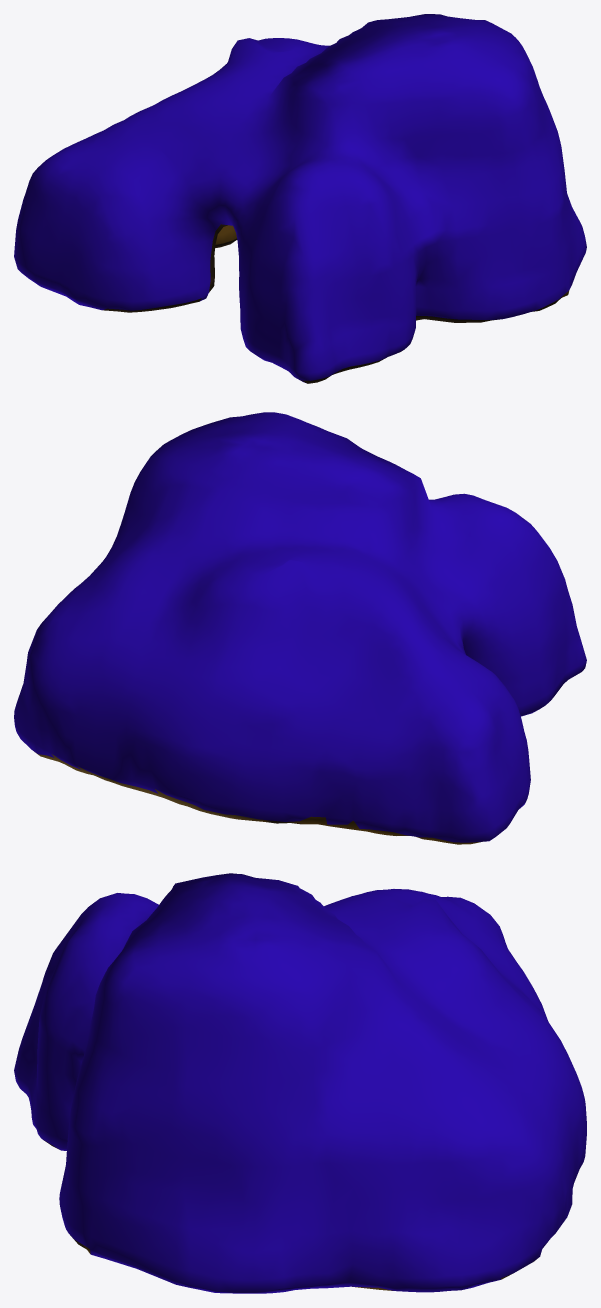
File: CaveFIXED.fbx
The picture shows the model from 3 angles, top to bottom: view 1: azimuth 30°, elevation 25°; view 2: azimuth 150°, elevation 25°; view 3: azimuth 270°, elevation 25°; orthographic projection. The views are drawn at different scales.
Visible parts, largest first — view 1: Cave; view 2: Cave; view 3: Cave.
Boxes of the visible parts, x1,y1,x2,y2 form: Cave: (14, 14, 586, 383); Cave: (14, 412, 586, 844); Cave: (14, 873, 586, 1293).
Size of the model in its own units: 8.51 by 4.04 by 7.42.
